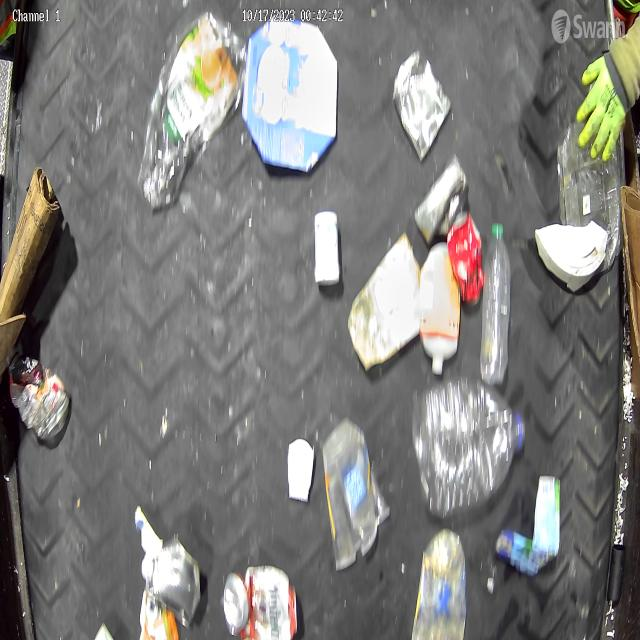can: (393, 48, 453, 161), (223, 565, 298, 640), (148, 536, 200, 628), (414, 155, 466, 244)
non_white_jug: (242, 17, 338, 174)
plastic_bottle: (414, 377, 526, 515), (480, 223, 511, 382)
